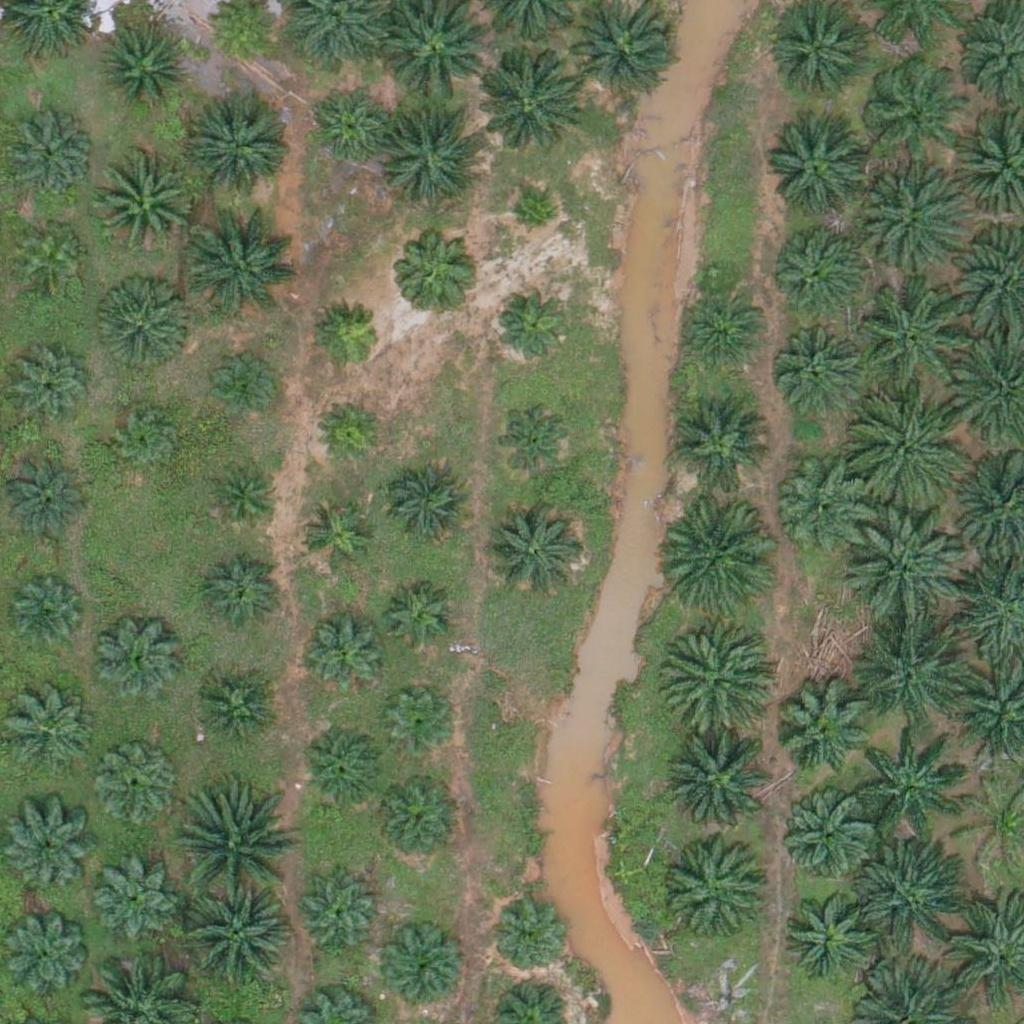Kelapa_Sawit: (662, 496, 775, 610), (856, 839, 969, 952), (846, 513, 959, 626), (658, 620, 771, 733), (180, 792, 293, 905), (852, 165, 965, 278), (854, 394, 967, 507), (468, 47, 581, 160), (665, 729, 777, 843), (853, 726, 965, 839), (857, 611, 969, 724), (178, 885, 290, 998), (188, 208, 300, 321), (859, 279, 971, 392), (380, 99, 492, 212), (775, 786, 875, 887), (779, 882, 879, 983), (668, 838, 768, 939), (483, 502, 583, 603), (93, 154, 193, 255), (190, 93, 290, 194), (862, 59, 962, 160), (768, 213, 868, 314), (768, 121, 868, 222), (670, 393, 770, 494), (772, 679, 872, 779), (94, 273, 194, 373), (775, 456, 875, 556), (771, 315, 871, 415), (300, 608, 388, 697), (492, 396, 580, 485), (198, 552, 286, 640), (186, 668, 274, 756), (370, 775, 458, 863), (2, 811, 90, 899), (2, 912, 90, 1000), (92, 744, 180, 832), (307, 85, 395, 173), (1, 457, 89, 545), (8, 339, 96, 427), (392, 222, 480, 310), (386, 461, 474, 549), (299, 723, 386, 811), (292, 871, 379, 959), (381, 928, 468, 1016), (94, 615, 181, 703), (91, 857, 178, 945), (5, 688, 92, 776), (6, 106, 93, 194), (100, 26, 187, 114), (490, 278, 577, 366), (677, 281, 764, 369), (9, 578, 84, 654), (207, 349, 282, 425), (382, 688, 457, 764), (491, 901, 566, 977), (205, 461, 280, 537), (312, 299, 387, 374), (13, 220, 88, 295), (297, 499, 372, 574), (111, 404, 186, 479), (385, 583, 460, 658), (312, 395, 387, 470), (509, 193, 559, 243)
